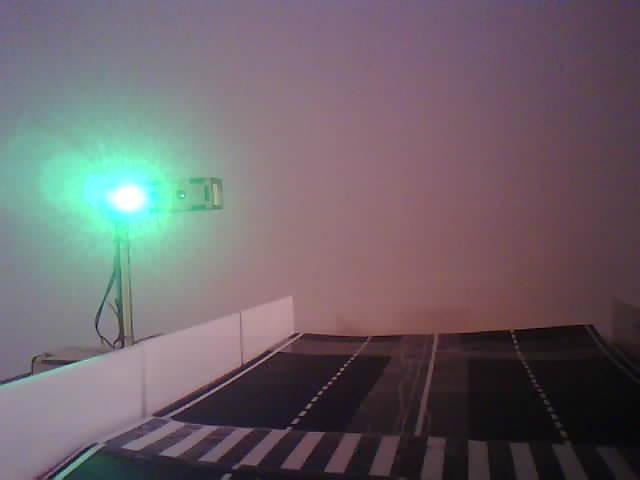crosswalk: (73, 412, 640, 480)
green: (62, 163, 228, 349)
